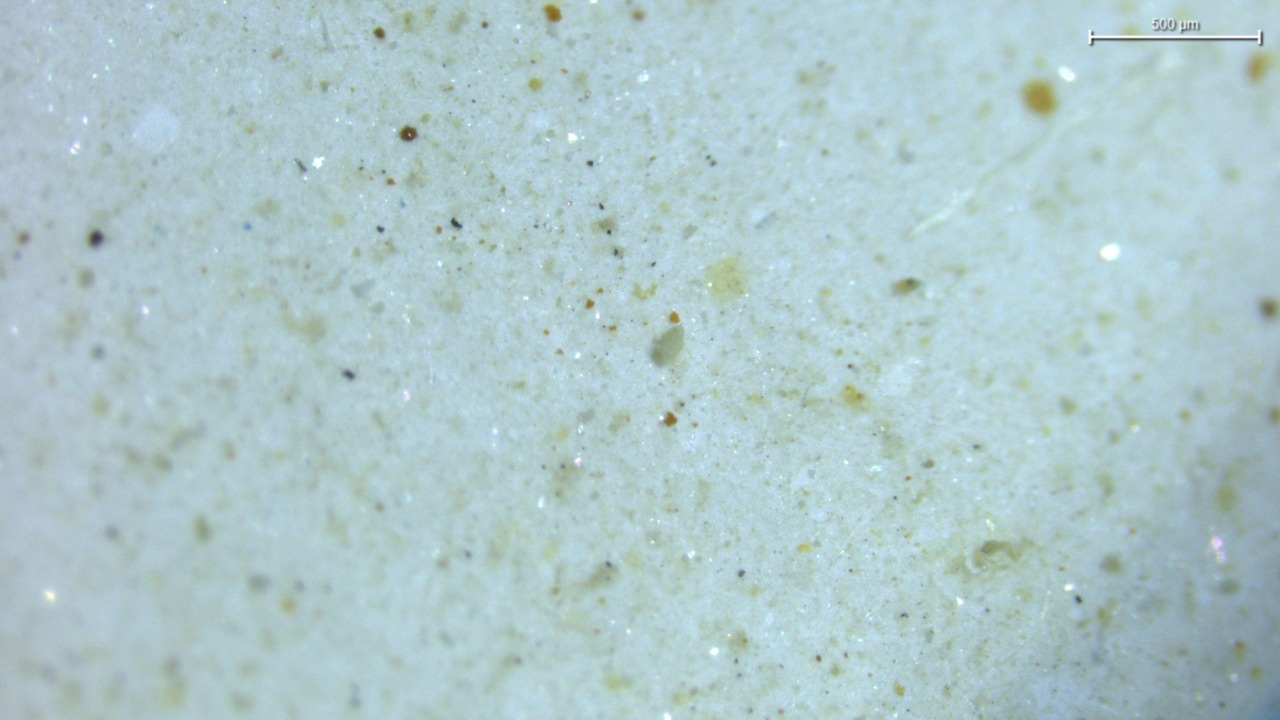microplastic_fragment: (650, 325, 684, 366)
